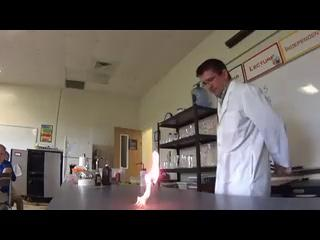Fire: (136, 147, 158, 206)
